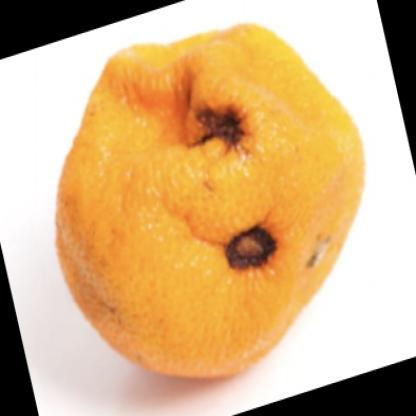rotten_orange: (51, 28, 365, 382)
